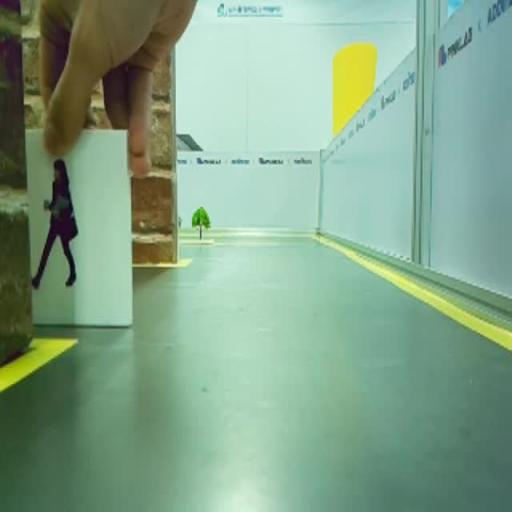human: (32, 159, 77, 288)
